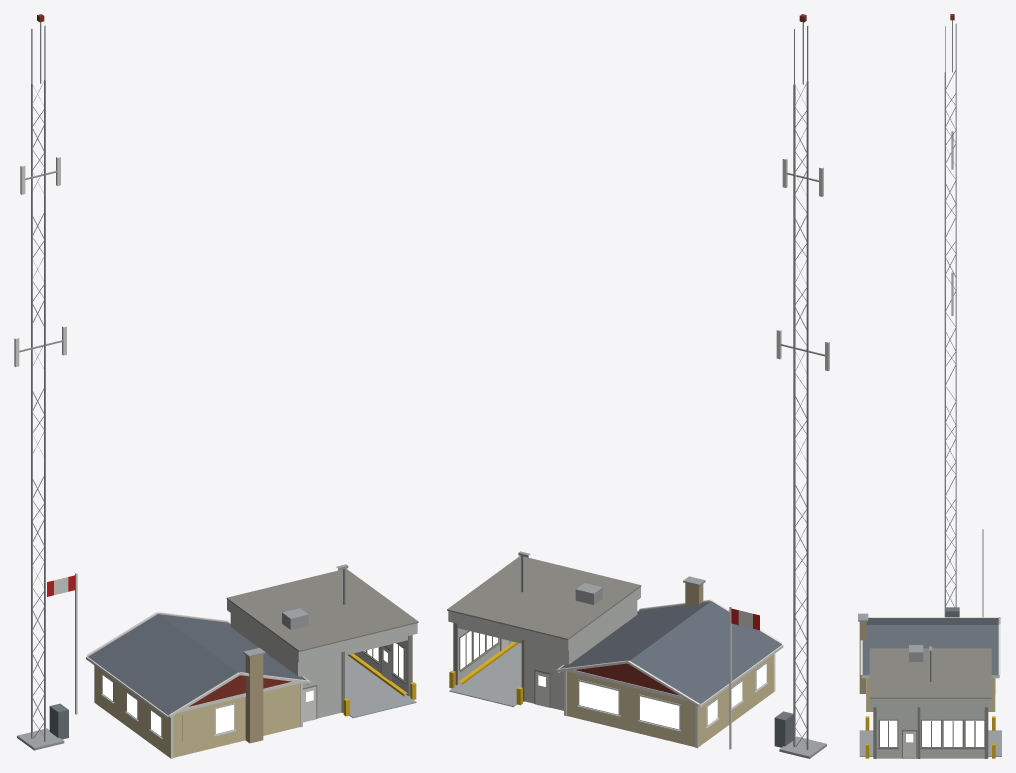
The model's file is h28_port_cbsa_main_lod1.gltf.
3 renders of one model, left to right at view 1: azimuth 30°, elevation 25°; view 2: azimuth 150°, elevation 25°; view 3: azimuth 270°, elevation 25°, orthographic. The views are drawn at different scales.
Visible parts, largest first — view 1: h28_port_cbsa_main; view 2: h28_port_cbsa_main; view 3: h28_port_cbsa_main.
Part boxes in pixels (box(x1,y1,x2,y2)): h28_port_cbsa_main: box(14, 14, 418, 758); h28_port_cbsa_main: box(447, 14, 829, 758); h28_port_cbsa_main: box(858, 14, 1001, 758).
Bounding box in the file's own units: 23.72 × 46.36 × 9.9.
